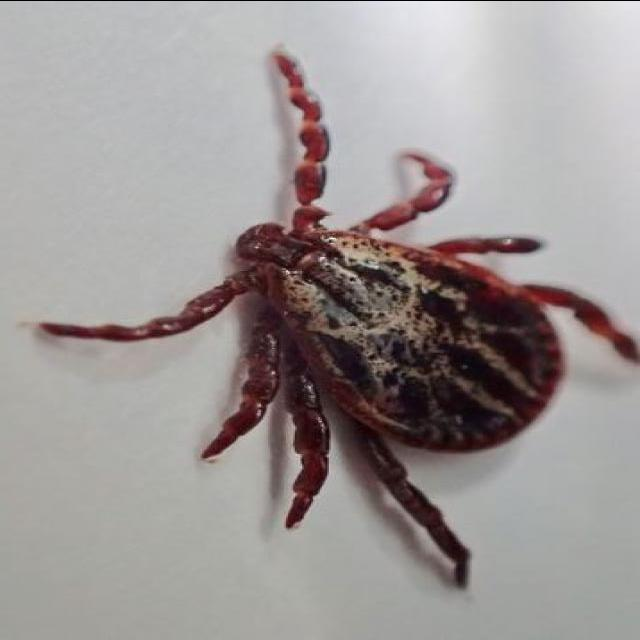Dermacentor Reticulatus-M: (39, 50, 640, 589)
